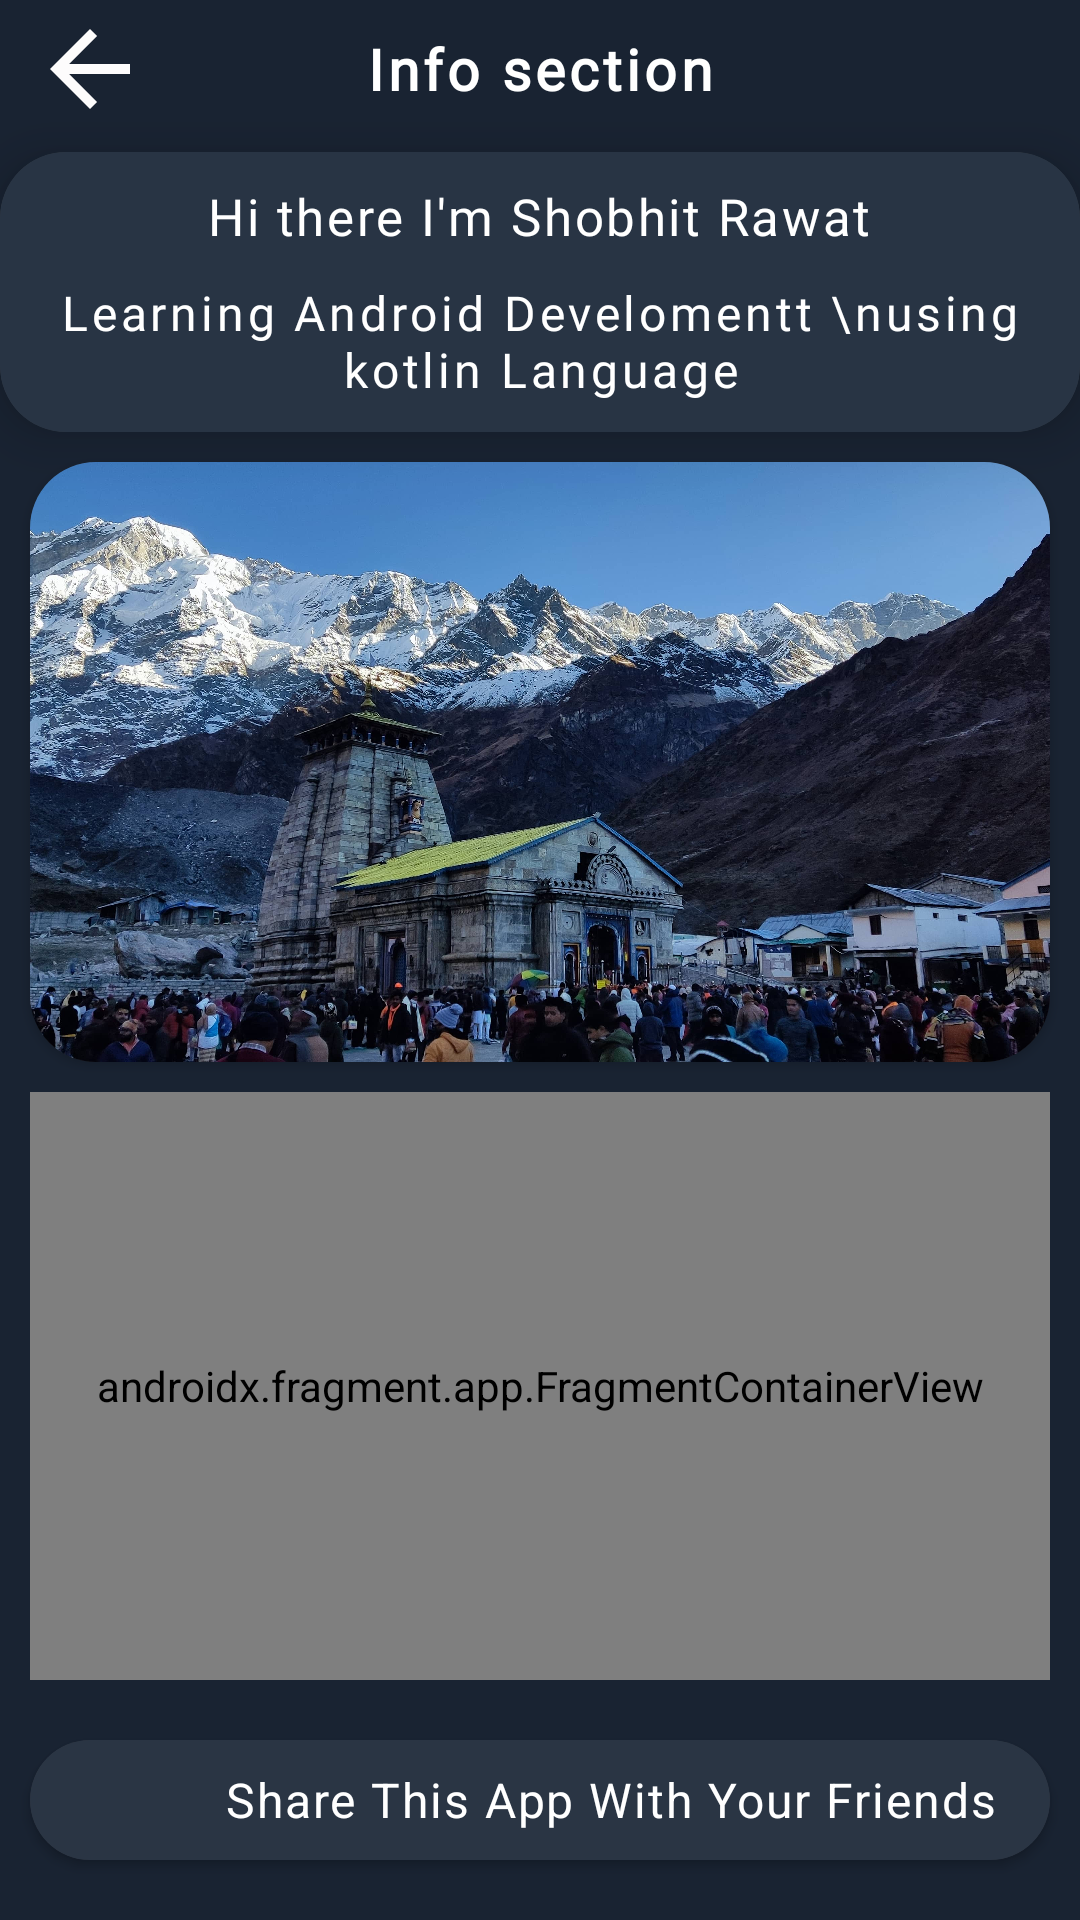

Icons on this 1080w x 1920h Android screen, each with its box as (x1, y1, x2, y2):
arrow back: (50, 29, 130, 109)
